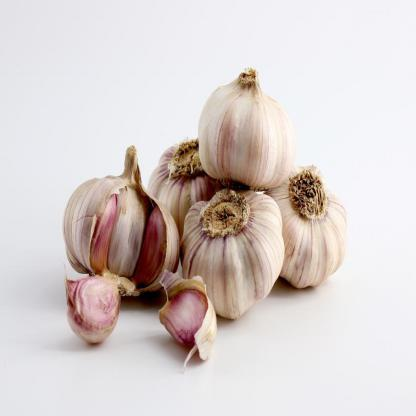garlic: (55, 150, 184, 294), (180, 189, 283, 322), (272, 160, 357, 315), (197, 68, 296, 185), (154, 275, 218, 353), (67, 274, 123, 346)
